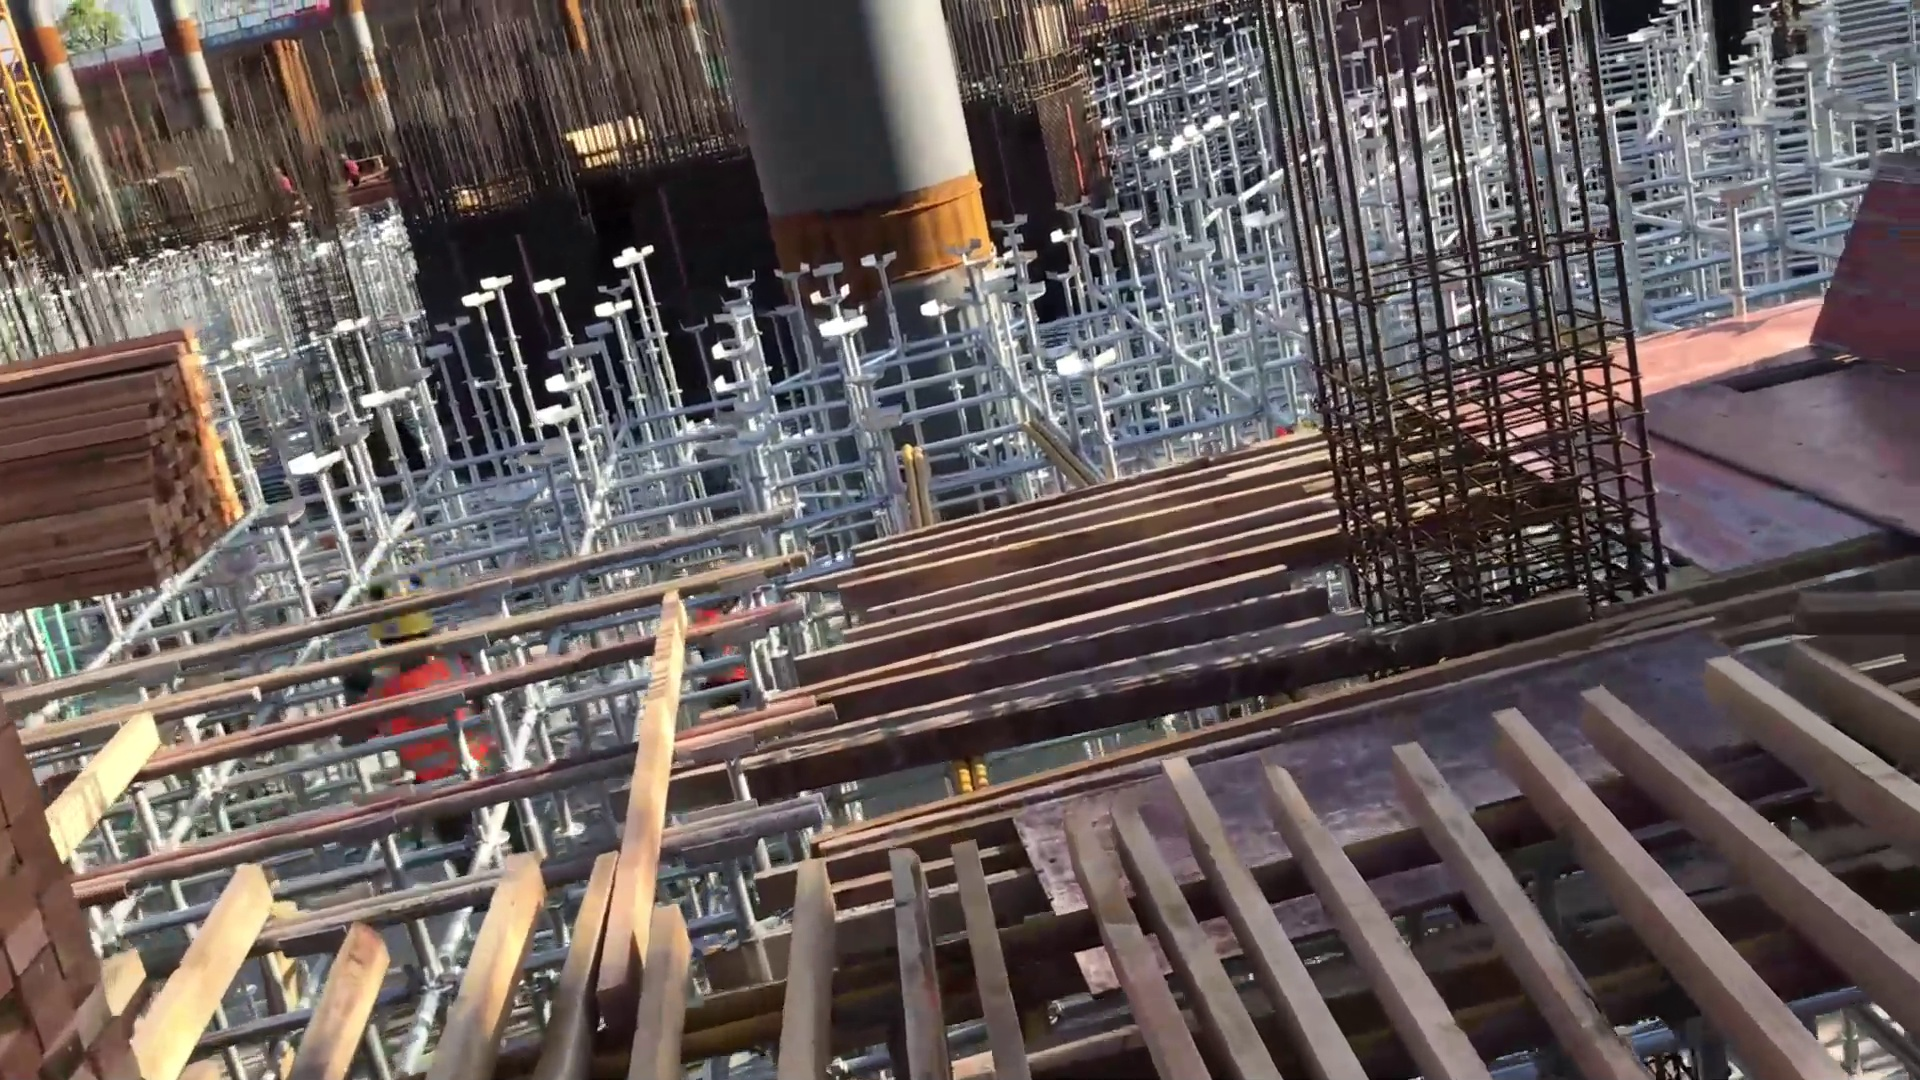helmet: (371, 601, 448, 661)
vest: (375, 658, 487, 771)
wood: (1, 311, 261, 585)
